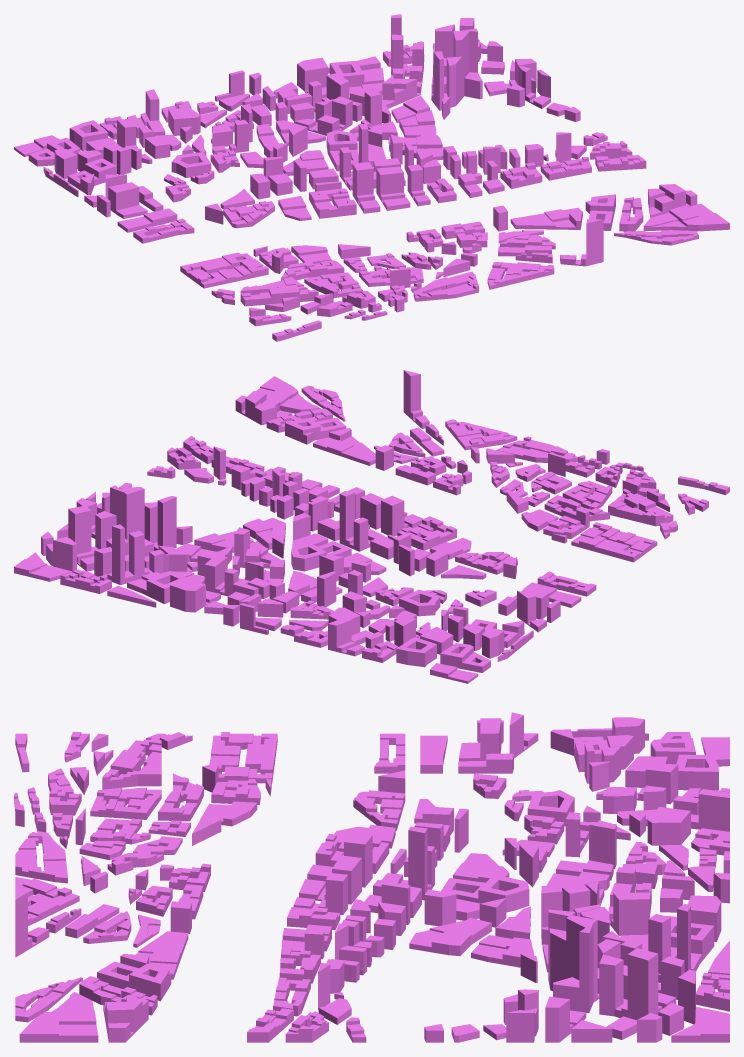
Rendered from buildings_00007.obj.
The picture shows the model from 3 angles, top to bottom: view 1: azimuth 30°, elevation 25°; view 2: azimuth 150°, elevation 25°; view 3: azimuth 270°, elevation 25°; orthographic projection. The views are drawn at different scales.
Size of the model in its own units: 1512 by 185 by 1503.
